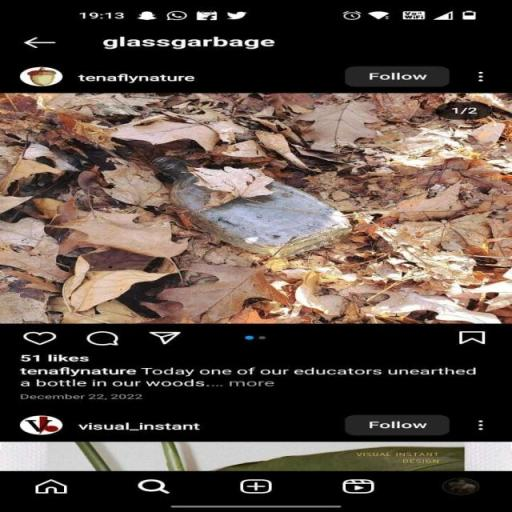glass: (140, 151, 352, 271)
